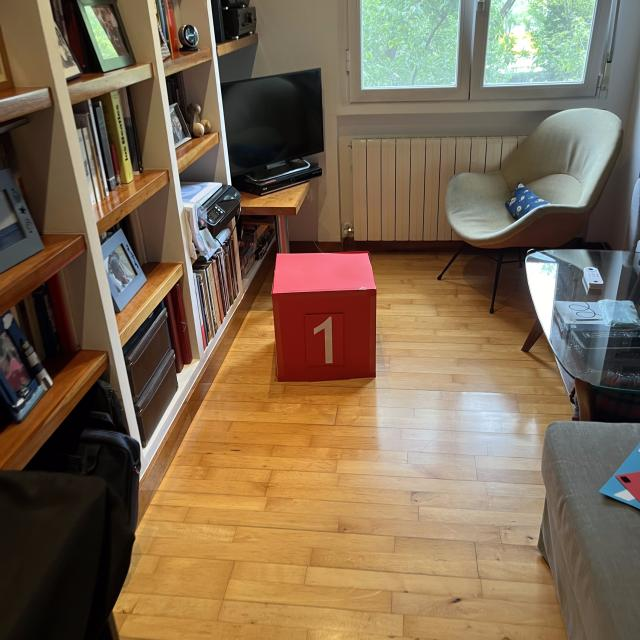box: (267, 246, 380, 384)
